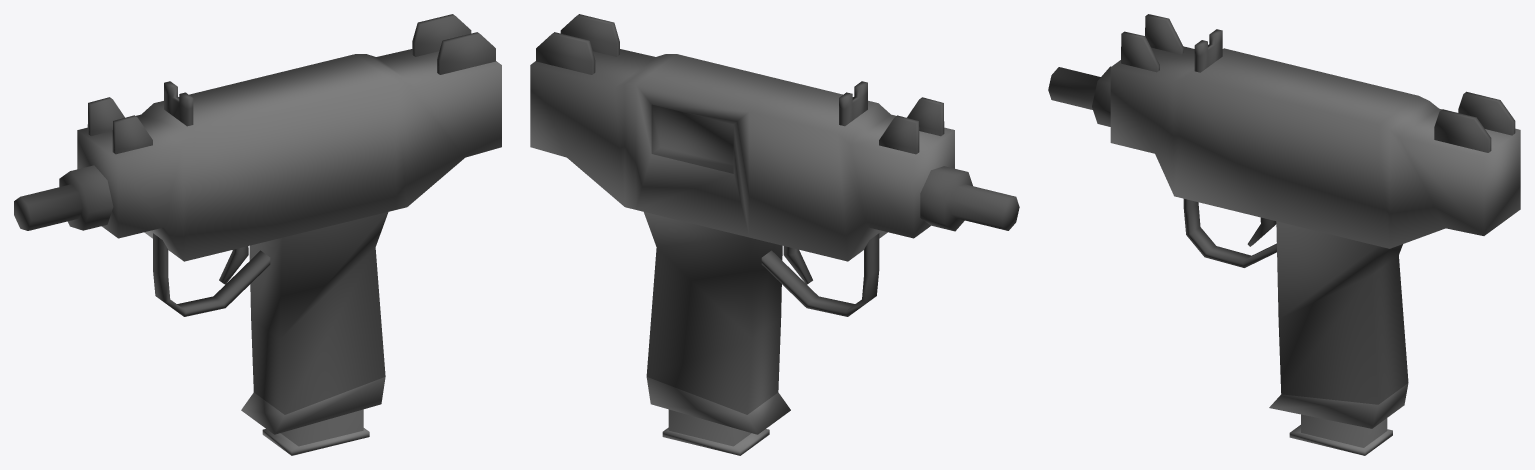
Rendered from uzi.fbx.
3 renders of one model, left to right at view 1: azimuth 30°, elevation 25°; view 2: azimuth 150°, elevation 25°; view 3: azimuth 330°, elevation 25°, orthographic. The views are drawn at different scales.
Visible parts, largest first — view 1: uzi, uzi_magazine; view 2: uzi, uzi_magazine; view 3: uzi, uzi_magazine.
Part boxes in pixels (left/top/right/bottom): uzi: left=14, top=14, right=501, bottom=434; uzi_magazine: left=262, top=409, right=369, bottom=455; uzi: left=530, top=14, right=1019, bottom=434; uzi_magazine: left=662, top=409, right=769, bottom=455; uzi: left=1048, top=14, right=1520, bottom=428; uzi_magazine: left=1289, top=414, right=1392, bottom=455.
Size of the model in its own units: 115 by 90.04 by 17.71.
Materials: 2 (2 with a texture image).
